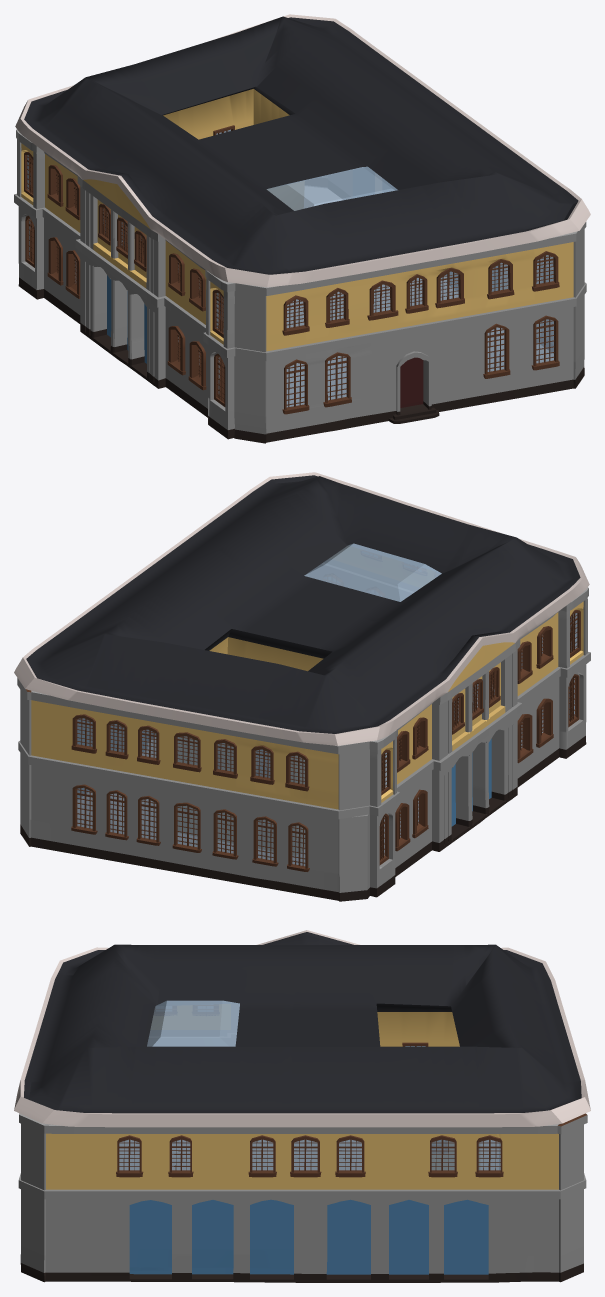
The model's file is burshuset.fbx.
The picture shows the model from 3 angles, top to bottom: view 1: azimuth 30°, elevation 25°; view 2: azimuth 150°, elevation 25°; view 3: azimuth 270°, elevation 25°; orthographic projection.
Parts seen in each view (by area): view 1: burshuset:window52; view 2: burshuset:window52; view 3: burshuset:window52.
Part boxes in pixels (box(x1,y1,x2,y2)): burshuset:window52: box(14, 14, 590, 443); burshuset:window52: box(14, 472, 590, 901); burshuset:window52: box(14, 930, 590, 1282).
Size of the model in its own units: 506 by 284 by 728.
